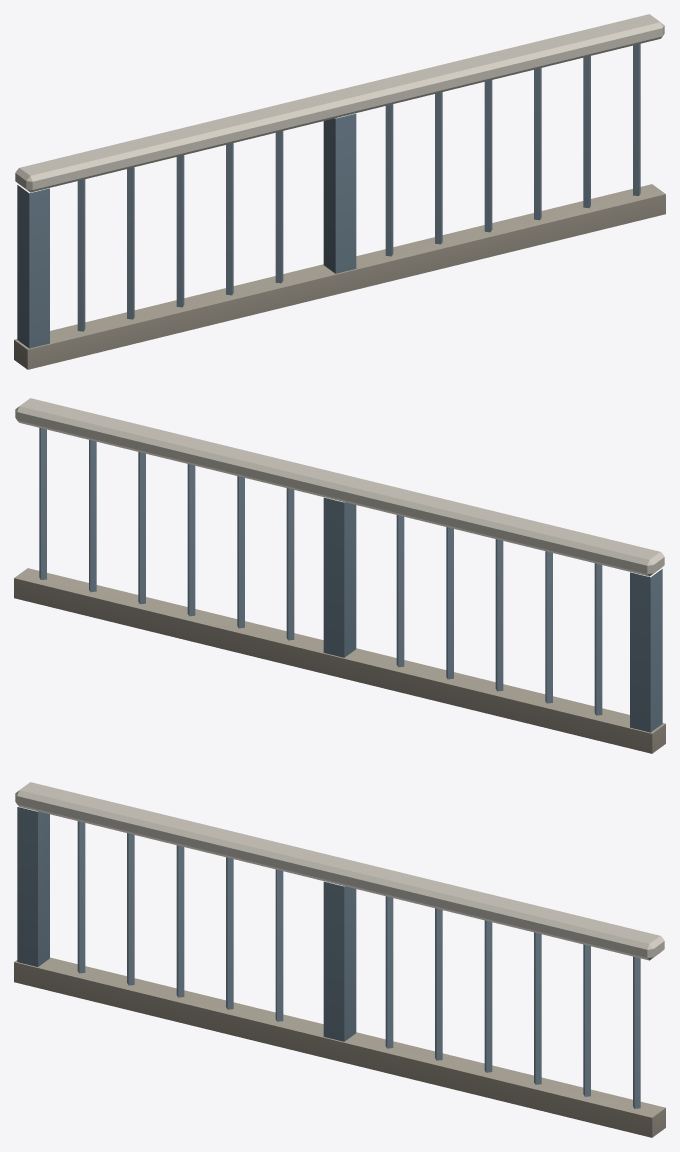
The model's file is rail.glb.
3 renders of one model, top to bottom at view 1: azimuth 30°, elevation 25°; view 2: azimuth 150°, elevation 25°; view 3: azimuth 330°, elevation 25°, orthographic.
Size of the model in its own units: 4 by 1.15 by 0.17.
